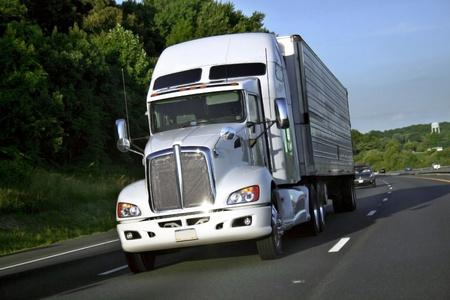卡车: (101, 31, 404, 265)
